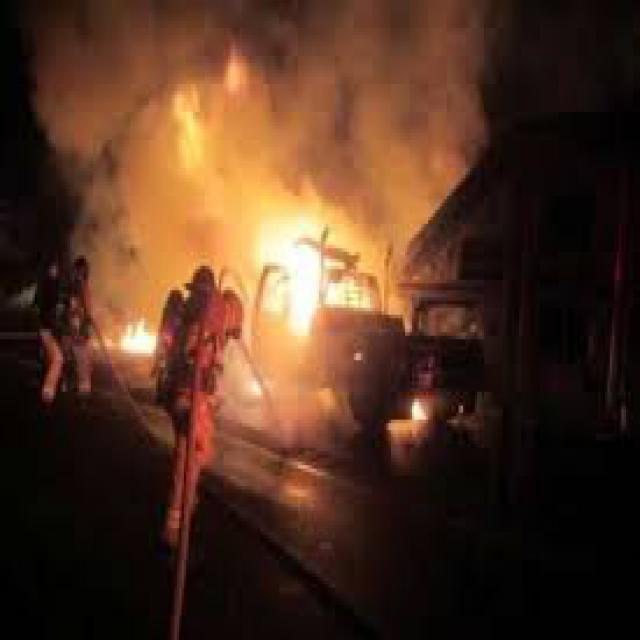Fire: (249, 226, 358, 326)
Smoke: (68, 23, 470, 231)
